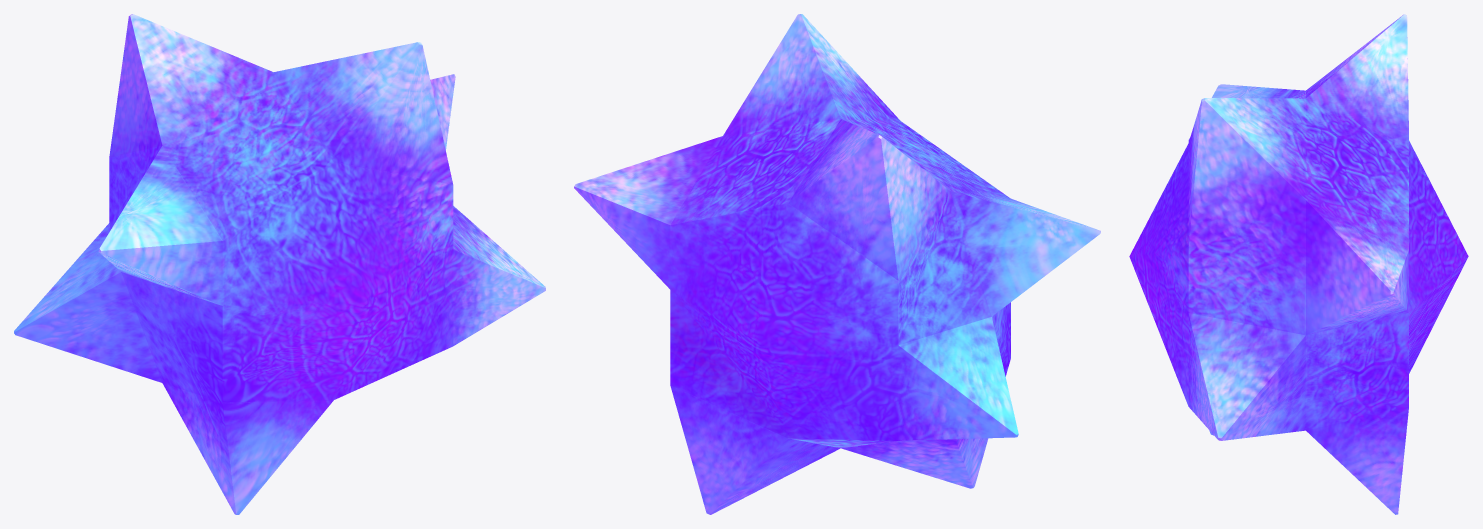
Rendered from projectile_-_skewer_ball.glb.
3 views of the same model, side by side, from view 1: azimuth 30°, elevation 25°; view 2: azimuth 150°, elevation 25°; view 3: azimuth 270°, elevation 25° (orthographic). The views are drawn at different scales.
Parts seen in each view (by area): view 1: bolita puas; view 2: bolita puas; view 3: bolita puas.
Part boxes in pixels (<box>): bolita puas: <box>14,14,545,514</box>; bolita puas: <box>574,14,1100,514</box>; bolita puas: <box>1129,14,1468,514</box>.
Bounding box in the file's own units: 95.41 × 88.19 × 64.43.
Materials: 1 (1 with a texture image).
